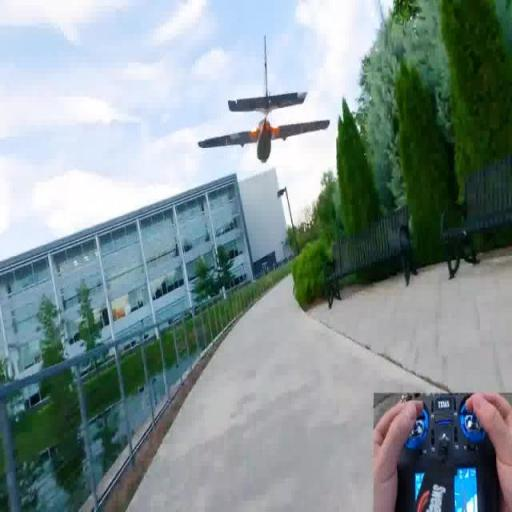uav: (190, 30, 336, 165)
